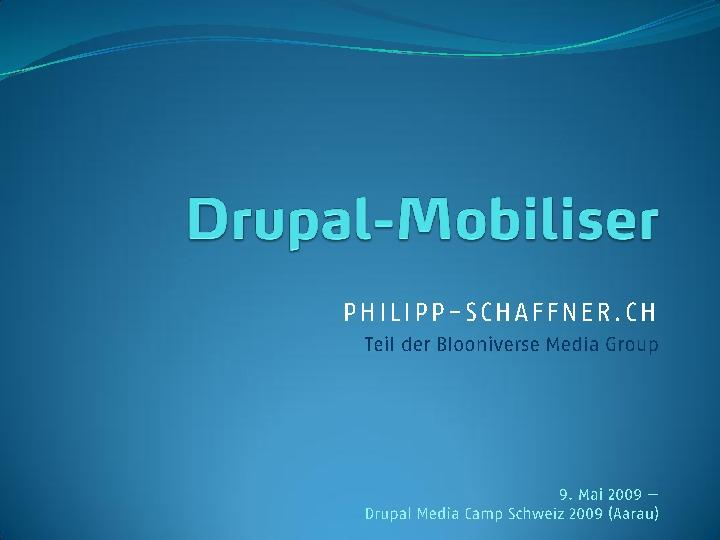subtitle: (326, 294, 690, 367), (351, 467, 676, 526)
title: (182, 171, 680, 263)
